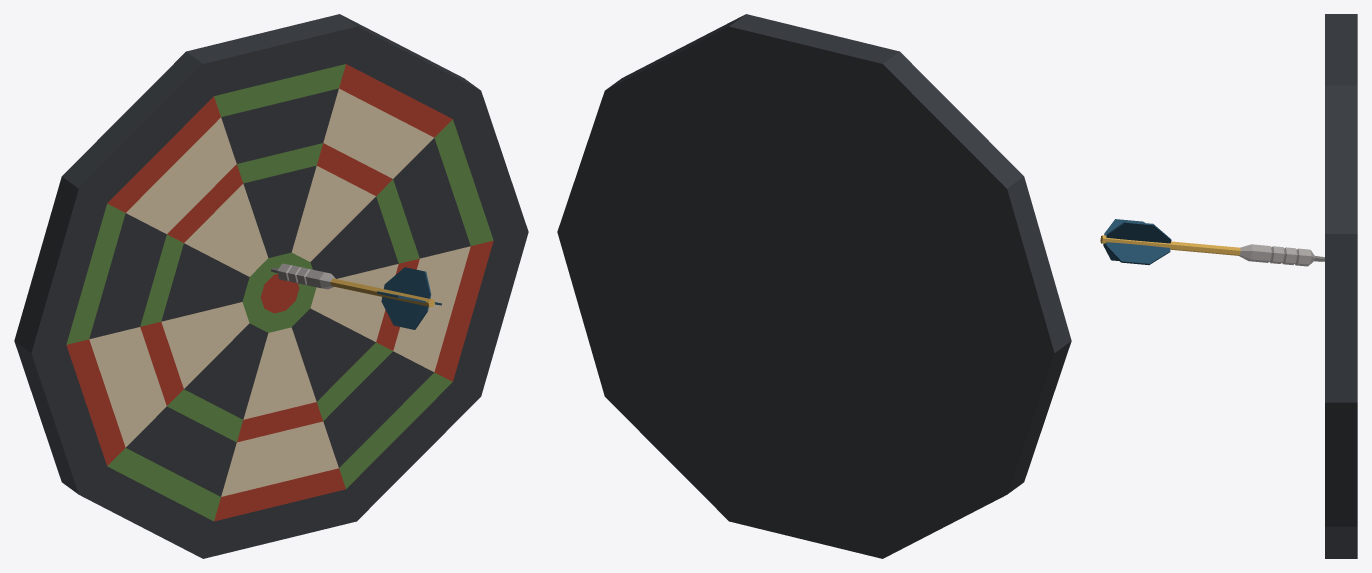
Rendered from SM_Prop_Darkboard_01.obj.
3 views of the same model, side by side, from view 1: azimuth 30°, elevation 25°; view 2: azimuth 150°, elevation 25°; view 3: azimuth 270°, elevation 25° (orthographic). The views are drawn at different scales.
Parts seen in each view (by area): view 1: SM_Prop_Darkboard_01_M_PolygonOffice_01_A; view 2: SM_Prop_Darkboard_01_M_PolygonOffice_01_A; view 3: SM_Prop_Darkboard_01_M_PolygonOffice_01_A.
Part boxes in pixels (x1=…): SM_Prop_Darkboard_01_M_PolygonOffice_01_A: x1=14, y1=14, x2=528, y2=558; SM_Prop_Darkboard_01_M_PolygonOffice_01_A: x1=557, y1=14, x2=1071, y2=558; SM_Prop_Darkboard_01_M_PolygonOffice_01_A: x1=1100, y1=14, x2=1357, y2=558.
Bounding box in the file's own units: 0.7137 × 0.6788 × 0.3342.
Materials: 1 (1 with a texture image).
